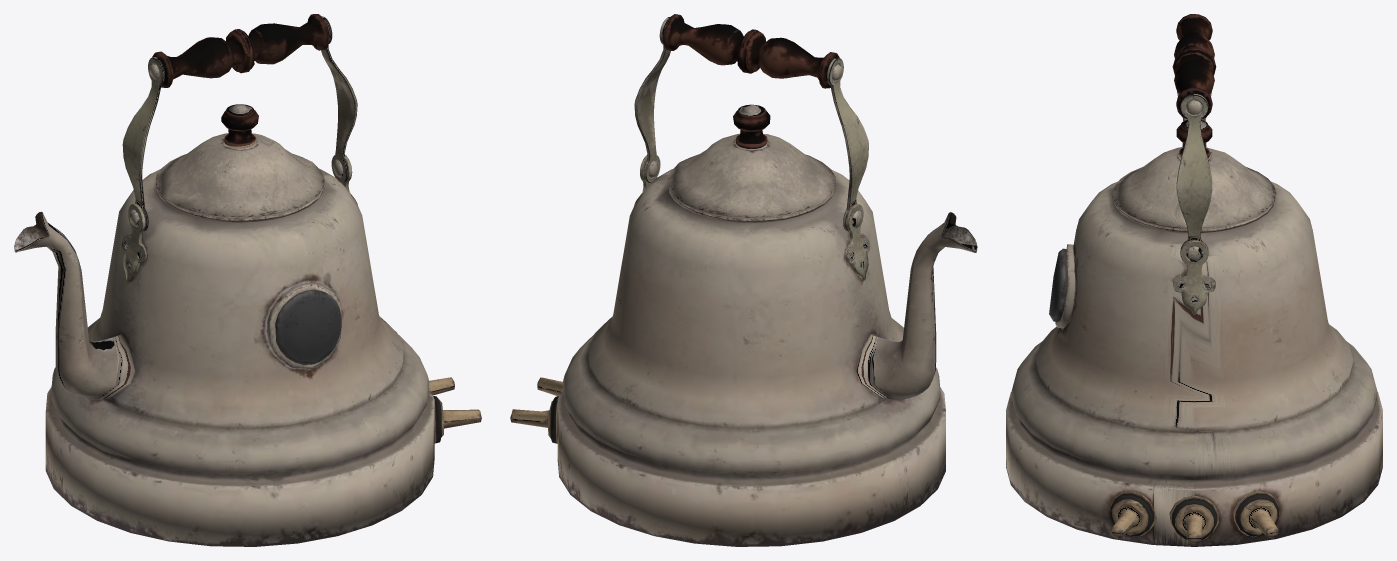
File: vintage_electric_kettle.glb
3 renders of one model, left to right at view 1: azimuth 30°, elevation 25°; view 2: azimuth 150°, elevation 25°; view 3: azimuth 270°, elevation 25°, orthographic. The views are drawn at different scales.
Visible parts, largest first — view 1: vintage_electric_kettle; view 2: vintage_electric_kettle; view 3: vintage_electric_kettle.
Part boxes in pixels (bbox=[...]): vintage_electric_kettle: bbox=[14, 14, 481, 546]; vintage_electric_kettle: bbox=[510, 14, 977, 546]; vintage_electric_kettle: bbox=[1006, 14, 1382, 546].
Size of the model in its own units: 0.3209 by 0.3044 by 0.2478.
2 materials, 2 textured.
